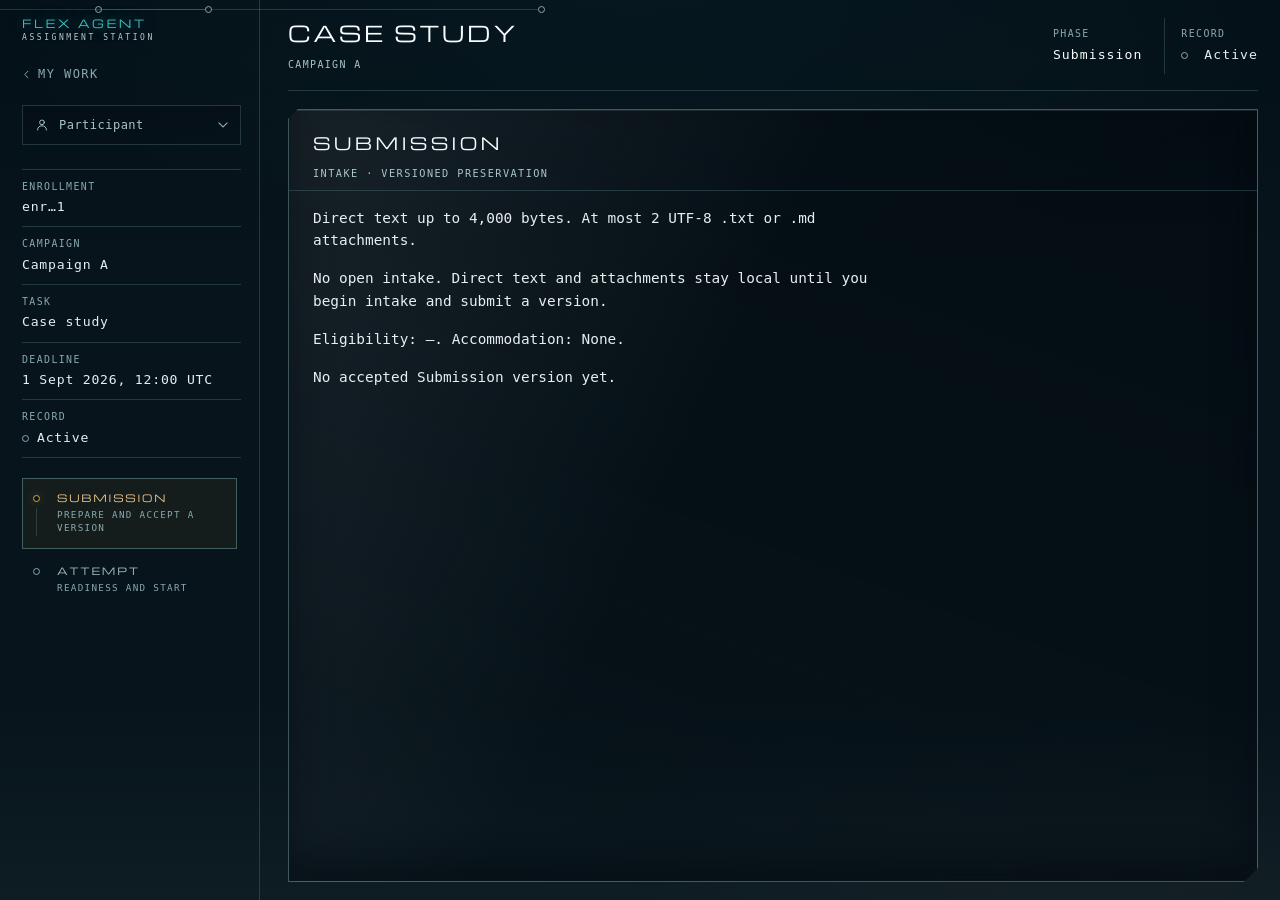
Test: ProductionMyWorkDetailPage › hydrates recorded acknowledgments from readiness current_outcome
Click the button with aria-label "Attempt —": (130, 579) [22,551,237,608]
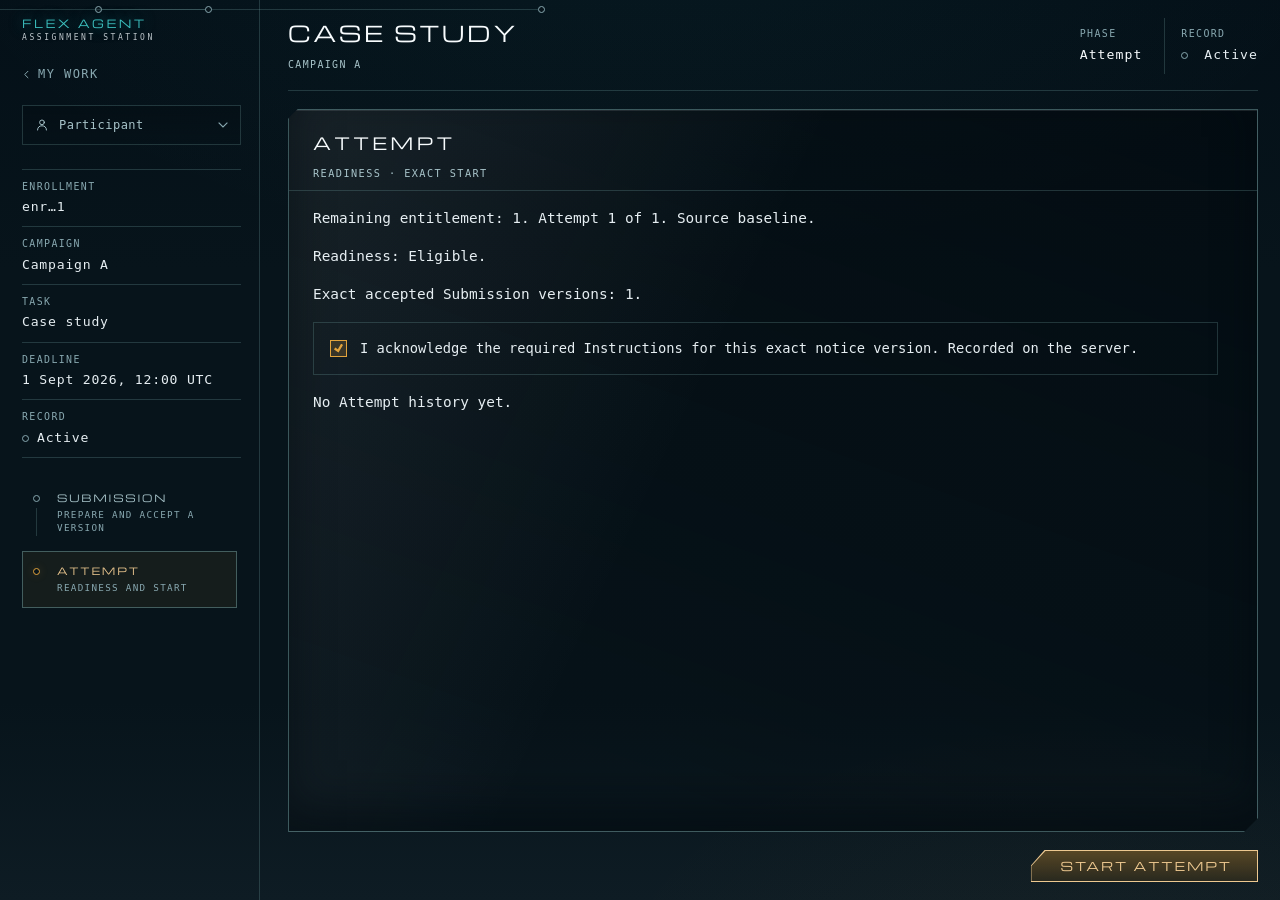
Expected: the checkbox labelled "required Instructions" is checked, [313,322,1218,375]
Expected: the text "Recorded on the server" is shown, [940,340,1138,356]
Click the button "Start Attempt": (1144, 866) [1030,850,1258,882]
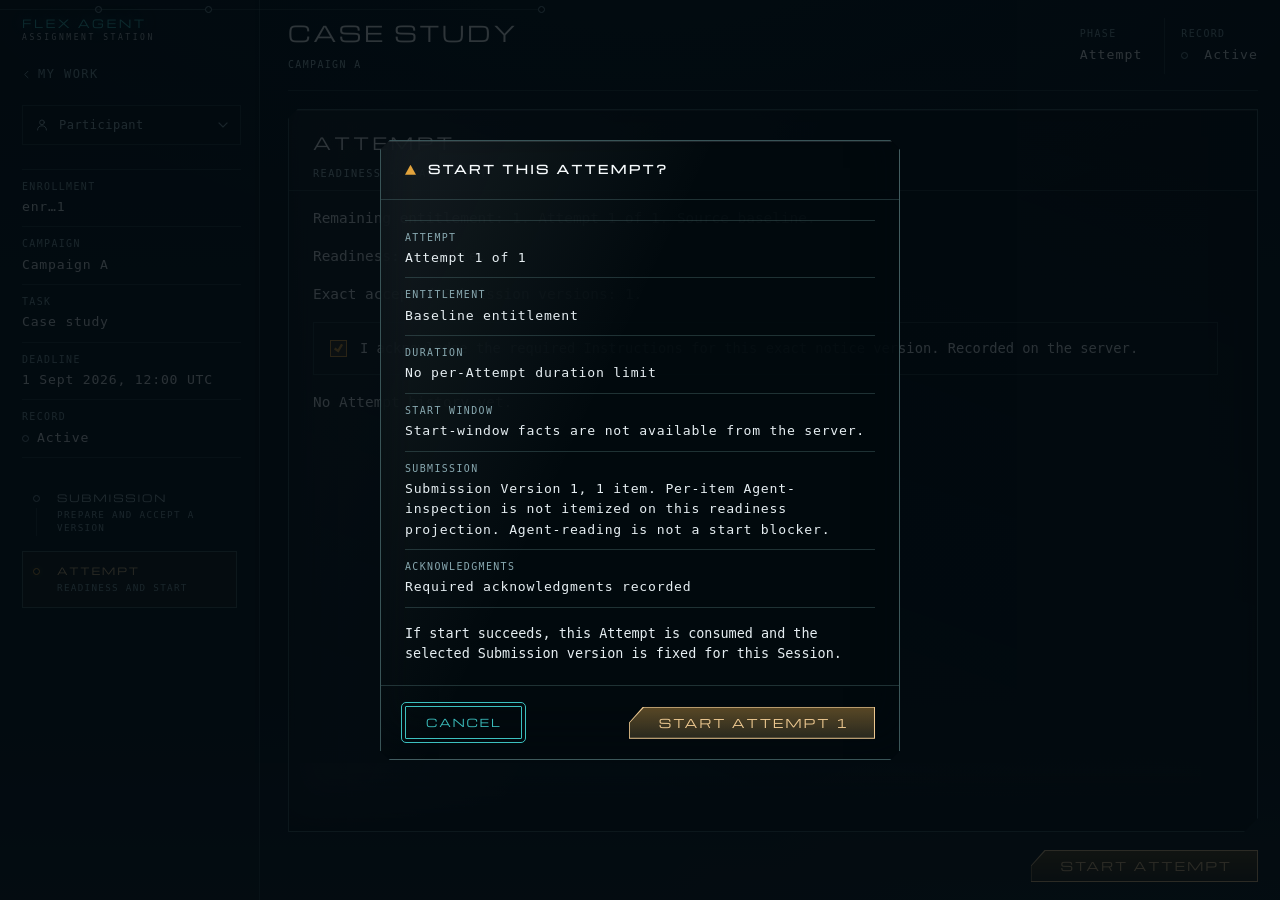
Expected: the dialog "Start this Attempt?" shows "Required acknowledgments recorded", [405,579,691,594]
